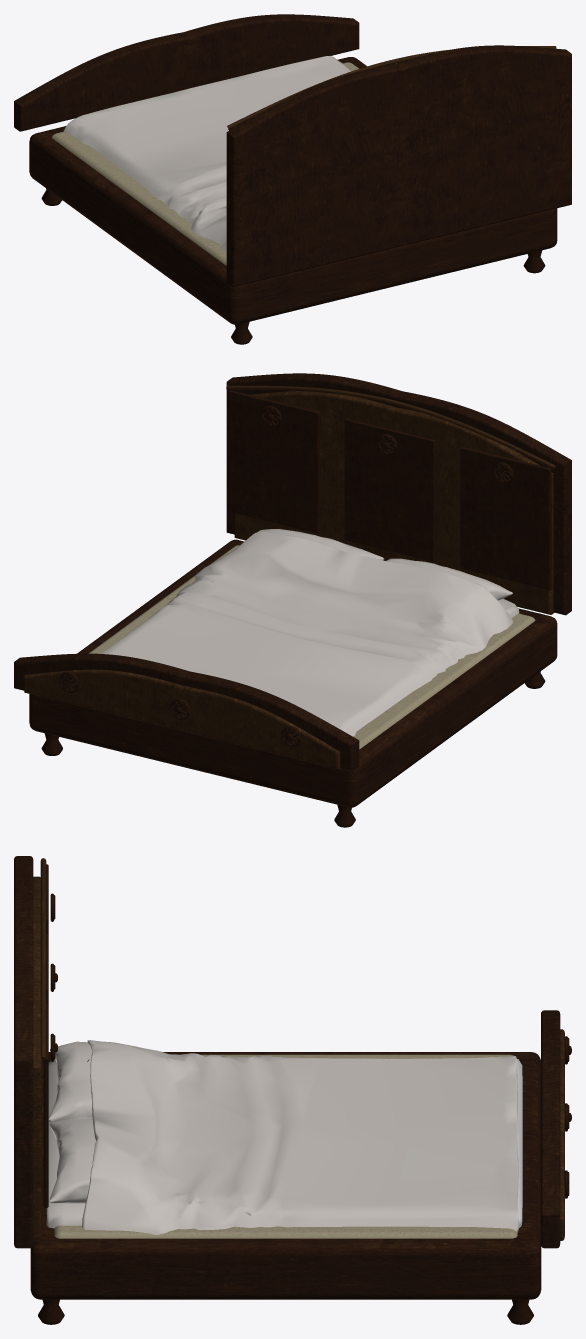
Rendered from luxury-canopy-bed.glb.
The picture shows the model from 3 angles, top to bottom: view 1: azimuth 30°, elevation 25°; view 2: azimuth 150°, elevation 25°; view 3: azimuth 270°, elevation 25°; orthographic projection. The views are drawn at different scales.
Parts seen in each view (by area): view 1: walnut_0, heritage_linen_2, linen_1, oak_8; view 2: walnut_0, heritage_linen_2, oak_8, linen_1; view 3: heritage_linen_2, walnut_0, linen_1, oak_8.
Boxes of the visible parts, <box> form: walnut_0: <box>14,14,571,344</box>; heritage_linen_2: <box>63,56,350,252</box>; linen_1: <box>51,62,358,265</box>; oak_8: <box>227,46,556,129</box>; walnut_0: <box>14,373,571,827</box>; heritage_linen_2: <box>100,529,519,736</box>; oak_8: <box>24,385,555,769</box>; linen_1: <box>88,545,535,749</box>; heritage_linen_2: <box>46,1040,522,1234</box>; walnut_0: <box>14,856,571,1324</box>; linen_1: <box>54,1054,517,1238</box>; oak_8: <box>33,858,564,1241</box>.
Size of the model in its own units: 2.11 by 1.48 by 2.43.
Materials: 4 (4 with a texture image).
